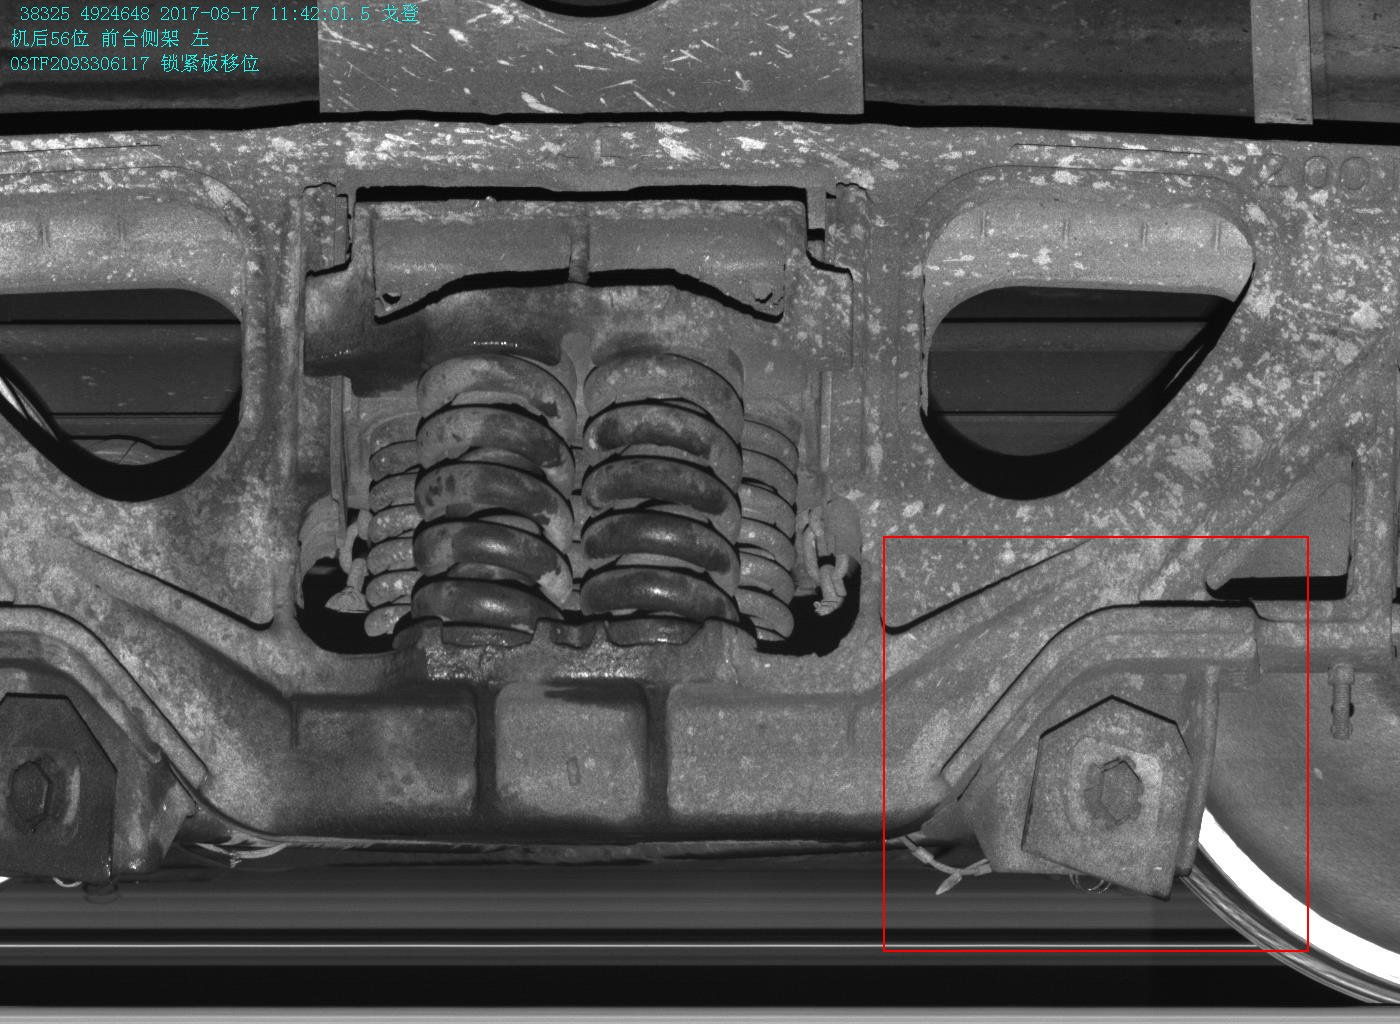Locking plate: (960, 657, 1221, 900)
normal: (1, 658, 148, 884)
